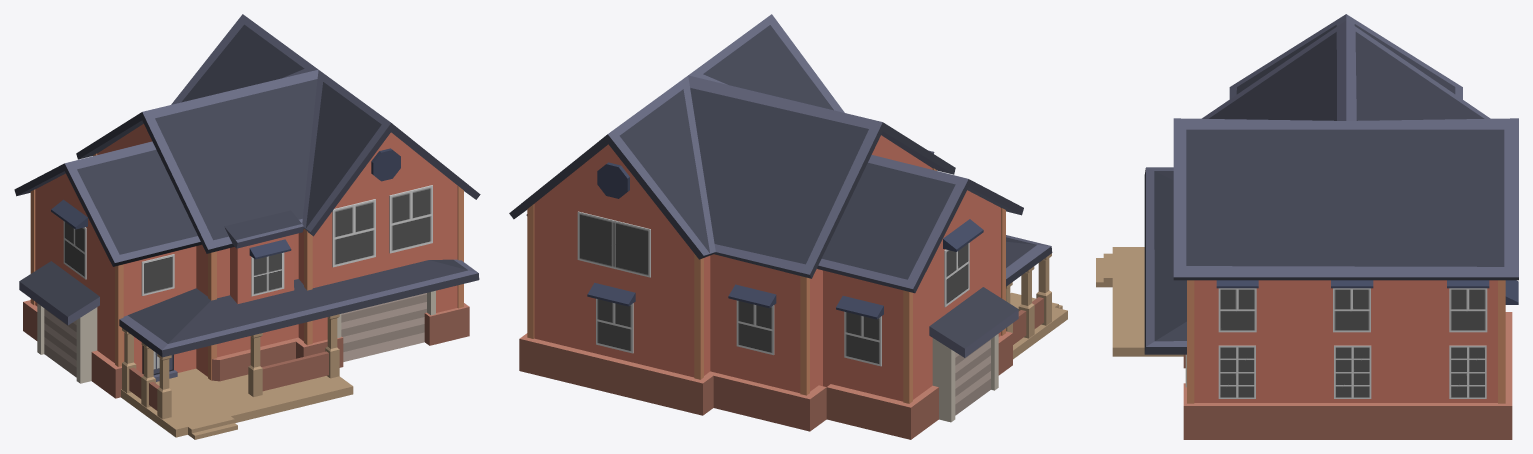
The model's file is house01_color02.fbx.
3 views of the same model, side by side, from view 1: azimuth 30°, elevation 25°; view 2: azimuth 150°, elevation 25°; view 3: azimuth 270°, elevation 25° (orthographic). The views are drawn at different scales.
Parts seen in each view (by area): view 1: house01_color02; view 2: house01_color02; view 3: house01_color02.
Boxes of the visible parts, bbox=[...] form: house01_color02: bbox=[14, 14, 480, 439]; house01_color02: bbox=[509, 14, 1067, 439]; house01_color02: bbox=[1096, 14, 1518, 439].
Size of the model in its own units: 1515 by 945 by 1317.
